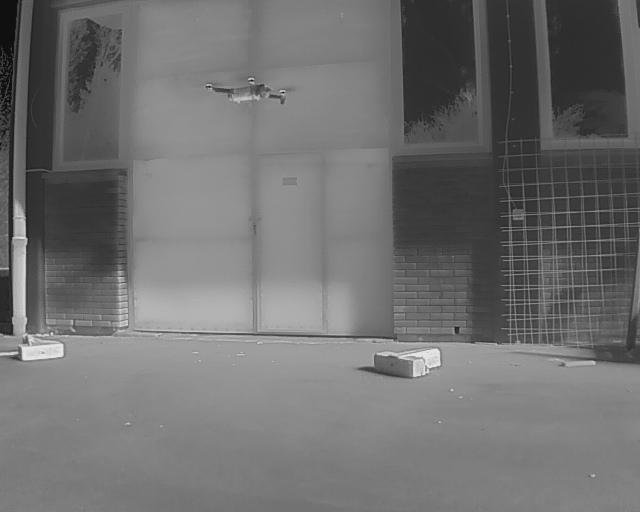drone: (198, 69, 300, 121)
